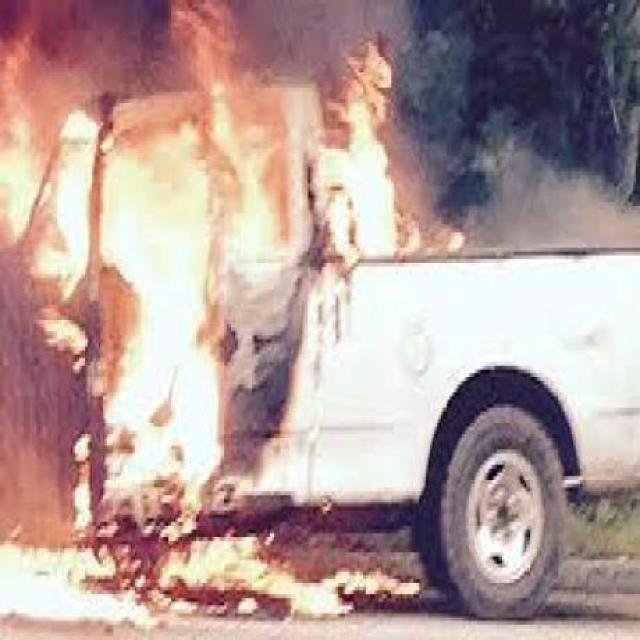Fire: (0, 0, 419, 572)
Smoke: (420, 126, 640, 264)
